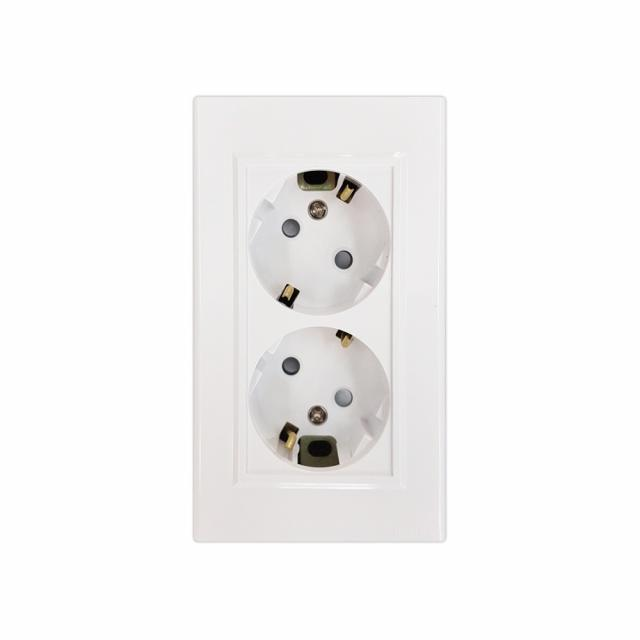typeb: (144, 68, 499, 582)
